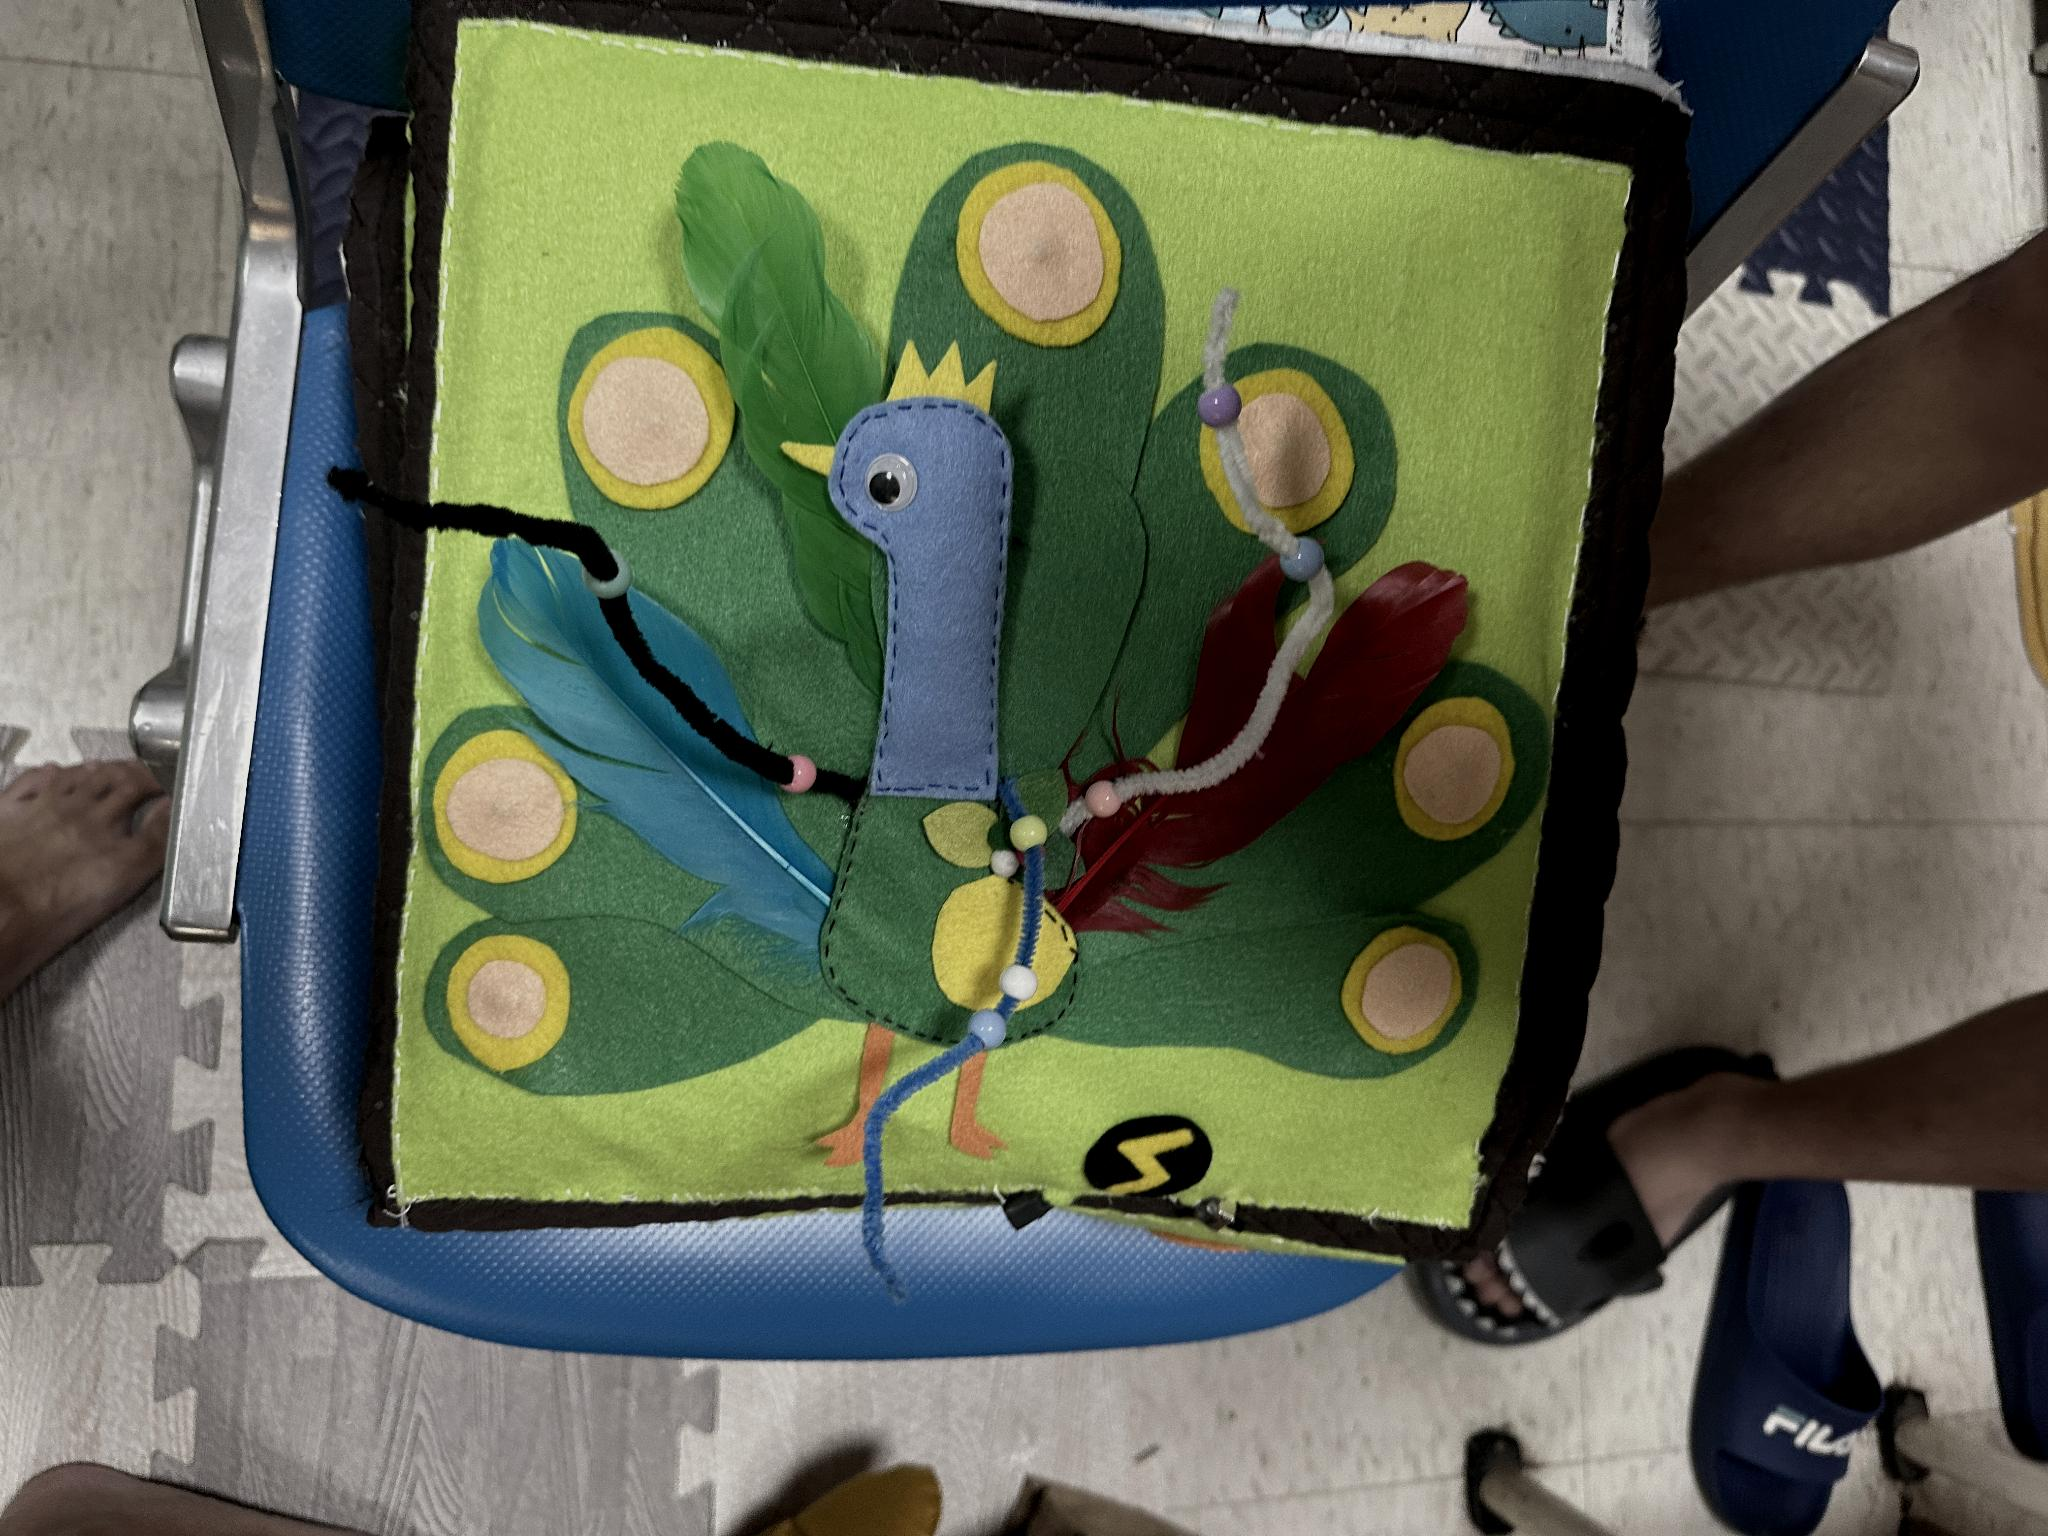bead: (1179, 373, 1256, 434), (1266, 521, 1327, 594), (1082, 770, 1137, 824), (966, 1004, 1013, 1065), (584, 552, 639, 597), (995, 800, 1061, 837), (772, 744, 818, 797), (997, 963, 1050, 1008)
